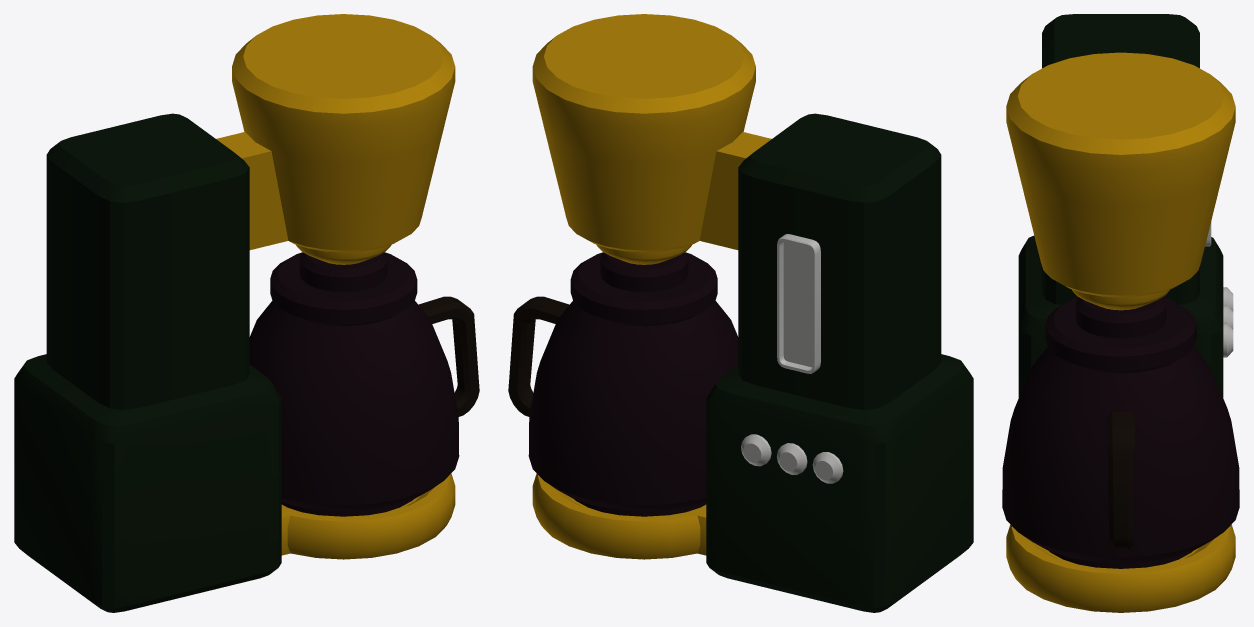
File: Coffee maker.FBX
3 renders of one model, left to right at view 1: azimuth 30°, elevation 25°; view 2: azimuth 150°, elevation 25°; view 3: azimuth 270°, elevation 25°, orthographic. The views are drawn at different scales.
Parts seen in each view (by area): view 1: Coffee maker; view 2: Coffee maker; view 3: Coffee maker.
Boxes of the visible parts, bbox=[...] form: Coffee maker: bbox=[14, 14, 479, 612]; Coffee maker: bbox=[508, 14, 973, 612]; Coffee maker: bbox=[1002, 14, 1239, 612].
Bounding box in the file's own units: 657 × 313 × 684.
